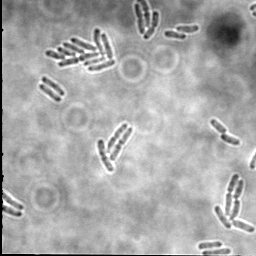Dividing: (209, 118, 242, 147), (110, 127, 134, 162), (106, 122, 129, 154), (96, 138, 115, 174), (143, 10, 160, 41), (136, 0, 152, 28), (133, 3, 146, 35)
Microcolony: (43, 26, 116, 73), (213, 174, 255, 233)
Rod: (41, 75, 65, 97), (38, 83, 62, 103), (197, 240, 224, 251), (163, 29, 187, 40), (175, 24, 200, 34), (202, 248, 232, 255)
